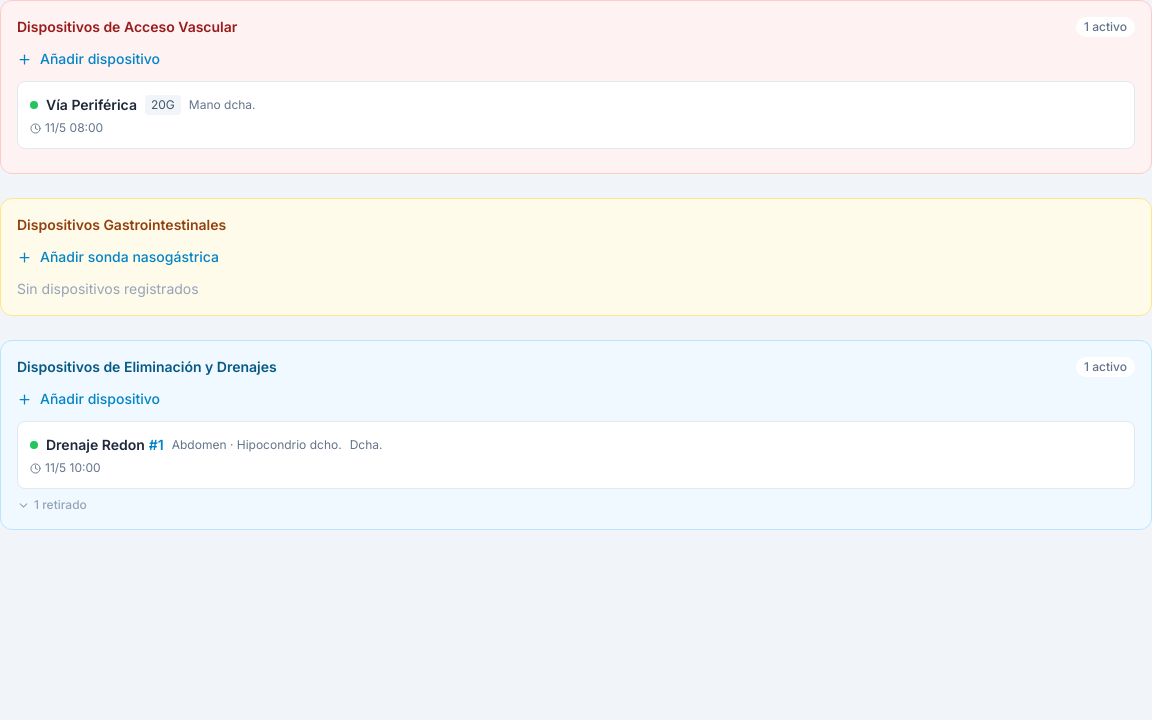
Scenario: DevicesTab › muestra material del dispositivo
Click the button "1 retirado". click: (52, 505)
box: [17,497,87,513]
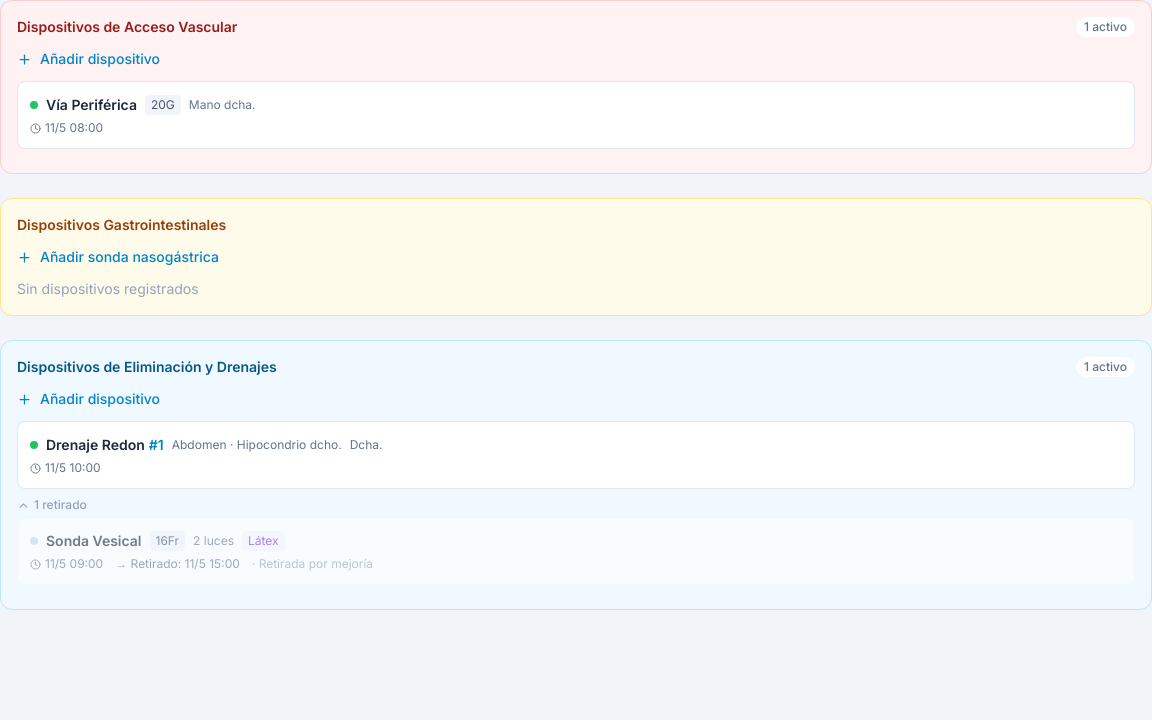
Now the text "Látex" is shown, box [242,531,285,551]
